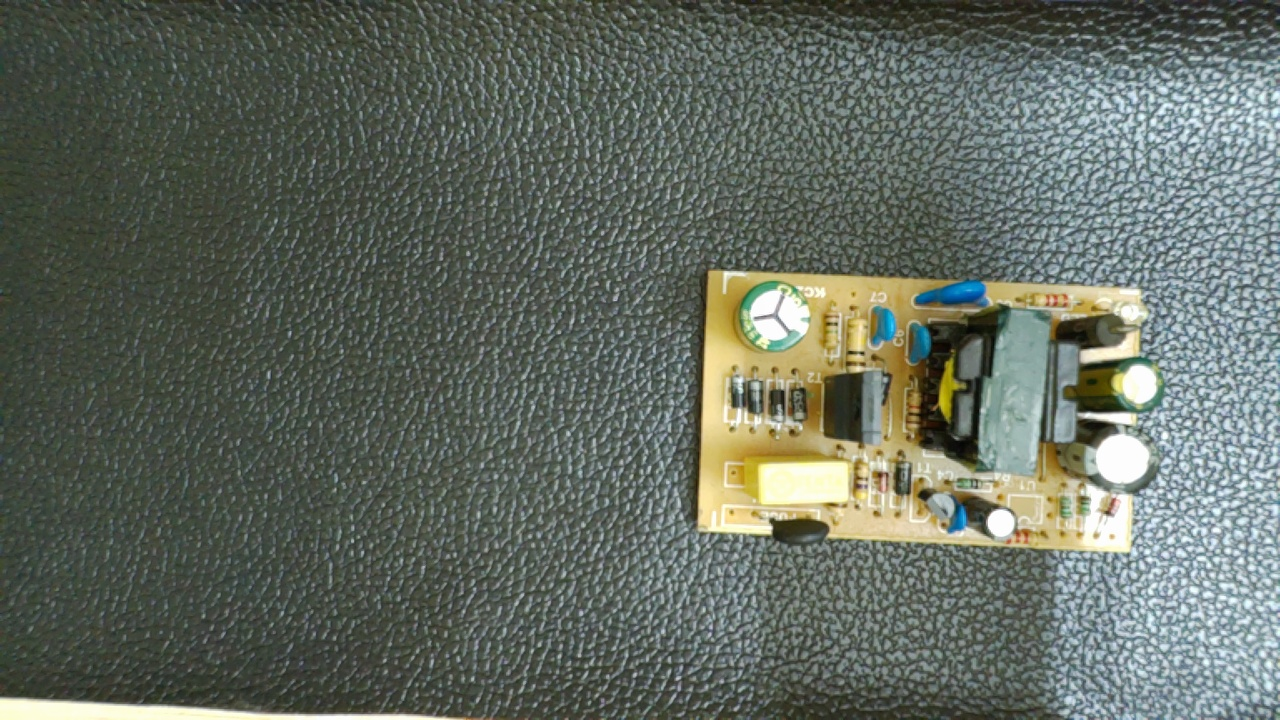fuse: (743, 507, 842, 548)
hv_capacitor: (729, 278, 816, 354)
mov: (912, 276, 1004, 315)
